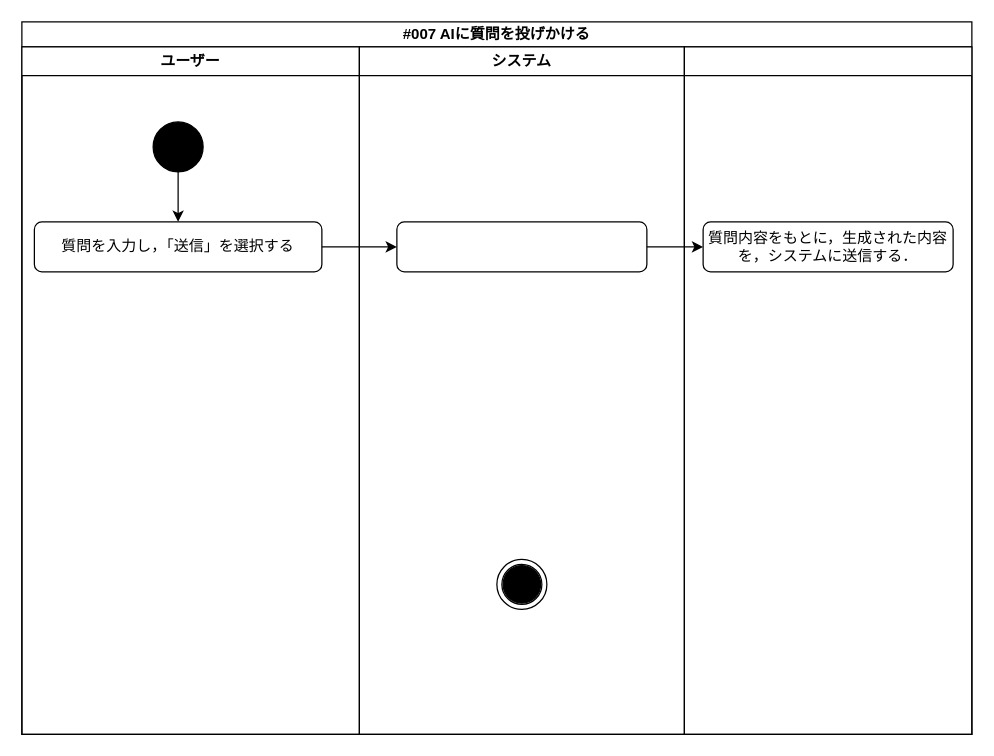
The diagram is 994 pixels wide and 756 high, and some of its shapes have lost their labels. The box of each missing label's shape, as (x1, y1, x2, y2) in pixels:
感情分析AI: (683, 46, 972, 734)
質問の内容を取得し， 感情分析AIに送信する: (396, 221, 647, 272)
